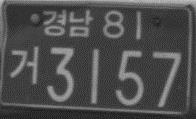1: (86, 48, 103, 103), (132, 10, 147, 39)
3: (45, 46, 75, 103)
5: (115, 49, 144, 105)
7: (151, 50, 183, 107)
8: (102, 9, 125, 39)
거: (9, 45, 39, 84)
경남_O: (41, 9, 94, 37)
